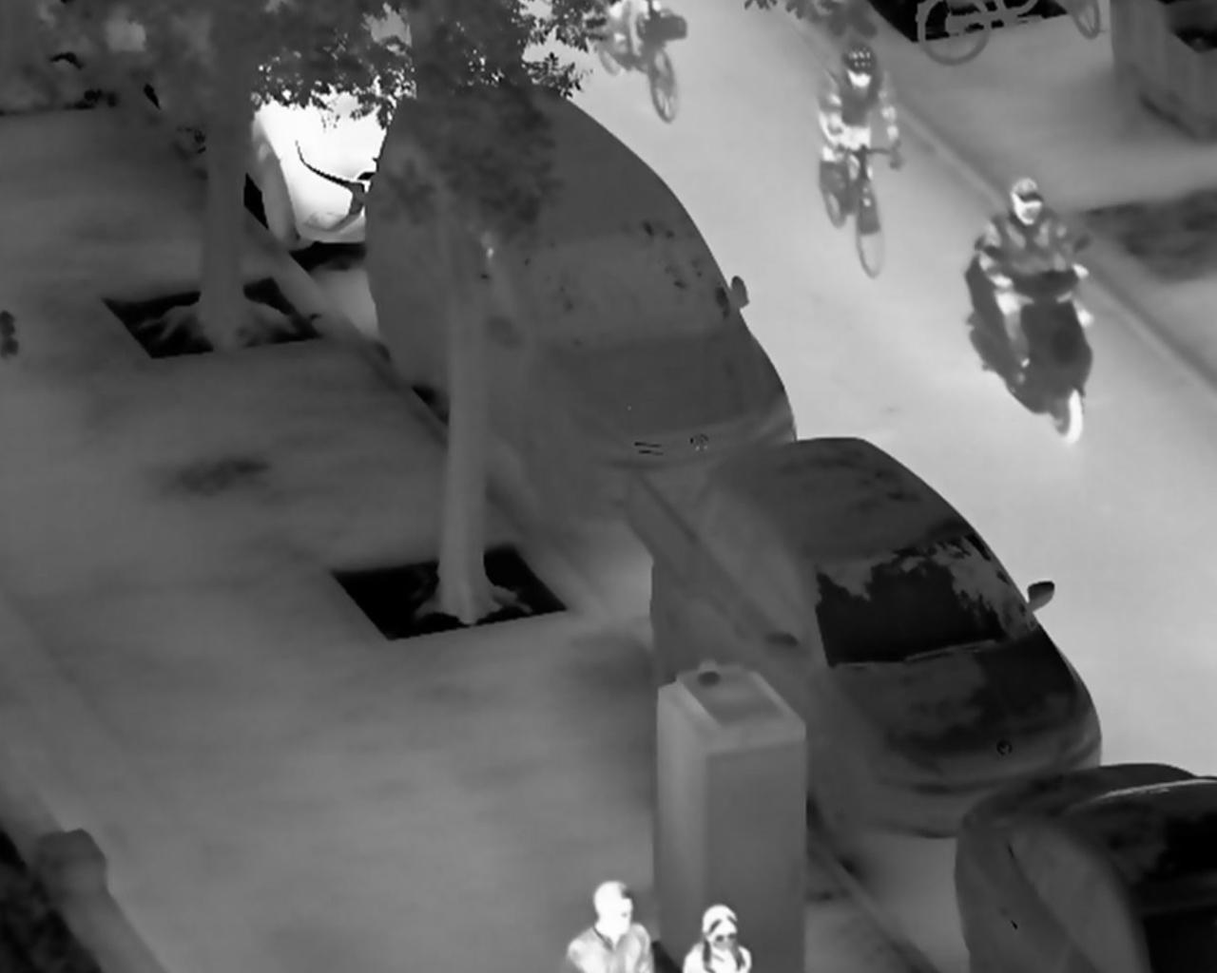person: (974, 177, 1093, 391), (815, 39, 905, 222)
